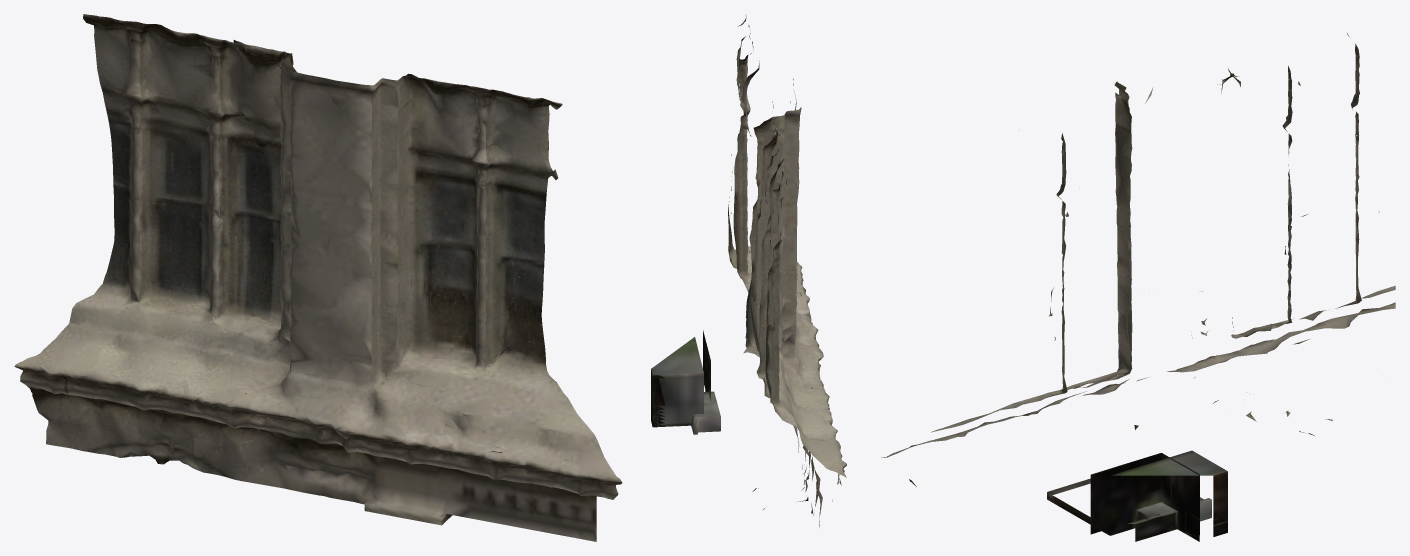
3 views of the same model, side by side, from view 1: azimuth 30°, elevation 25°; view 2: azimuth 150°, elevation 25°; view 3: azimuth 270°, elevation 25° (orthographic). The views are drawn at different scales.
Size of the model in its own units: 4.45 by 5.32 by 6.23.
1 material, 1 textured.
